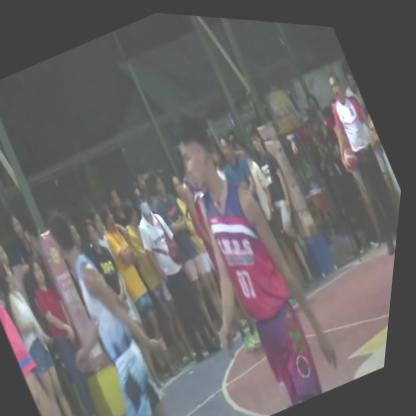basketball: (334, 132, 370, 174)
